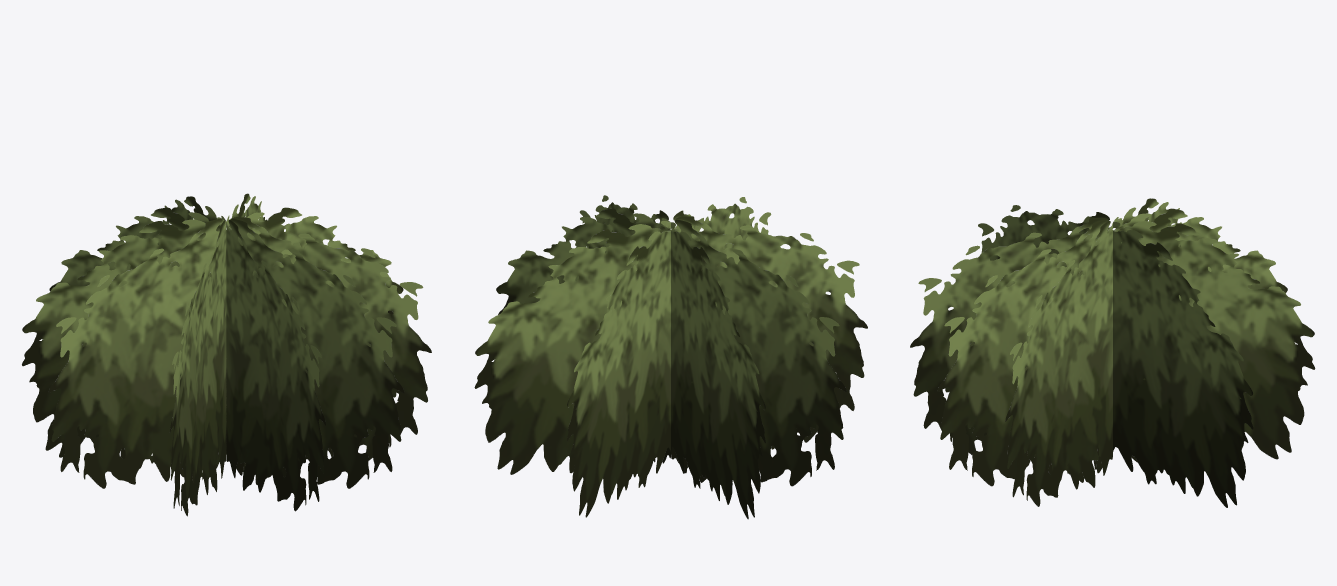
The model's file is FRM0110009.fbx.
3 views of the same model, side by side, from view 1: azimuth 30°, elevation 25°; view 2: azimuth 150°, elevation 25°; view 3: azimuth 270°, elevation 25° (orthographic).
Parts seen in each view (by area): view 1: smFRM0110009; view 2: smFRM0110009; view 3: smFRM0110009.
Part boxes in pixels (bbox=[...]): smFRM0110009: bbox=[22, 193, 431, 516]; smFRM0110009: bbox=[474, 195, 867, 519]; smFRM0110009: bbox=[910, 198, 1315, 507].
Bounding box in the file's own units: 46.32 × 46.32 × 46.31.
1 material, 1 textured.
